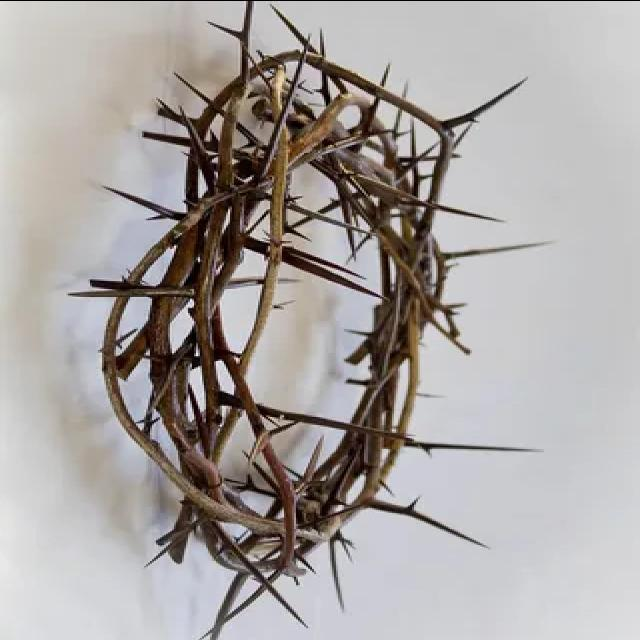crown: (112, 28, 478, 610)
